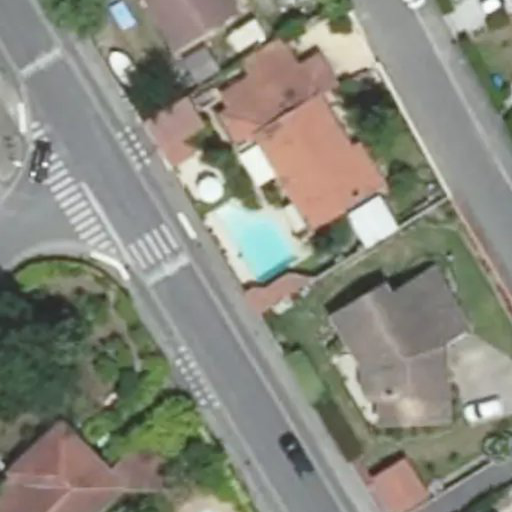pool: (215, 210, 296, 258)
